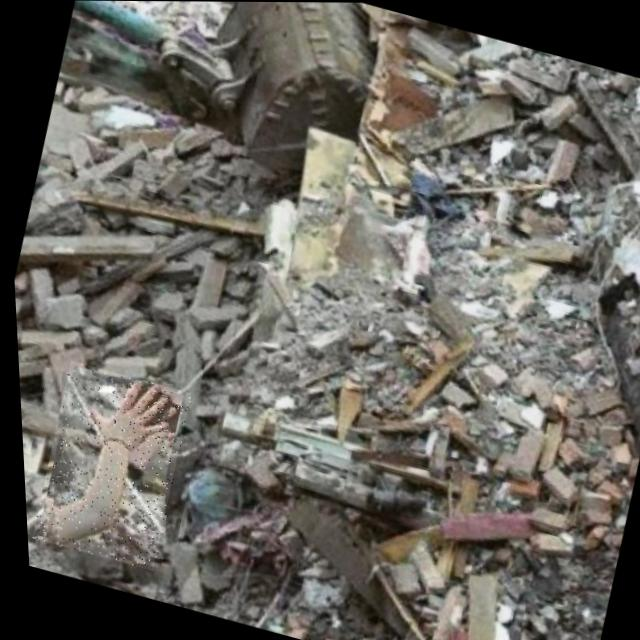Person in Rubble: (19, 360, 195, 571)
